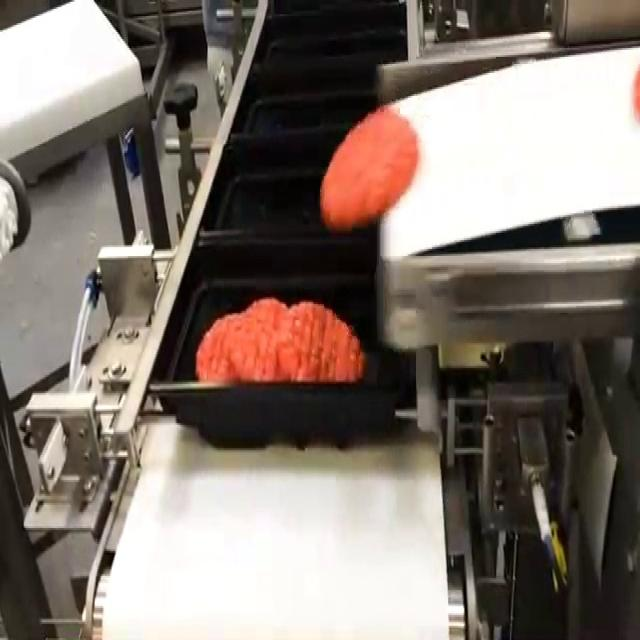hamburguer: (320, 105, 420, 226)
